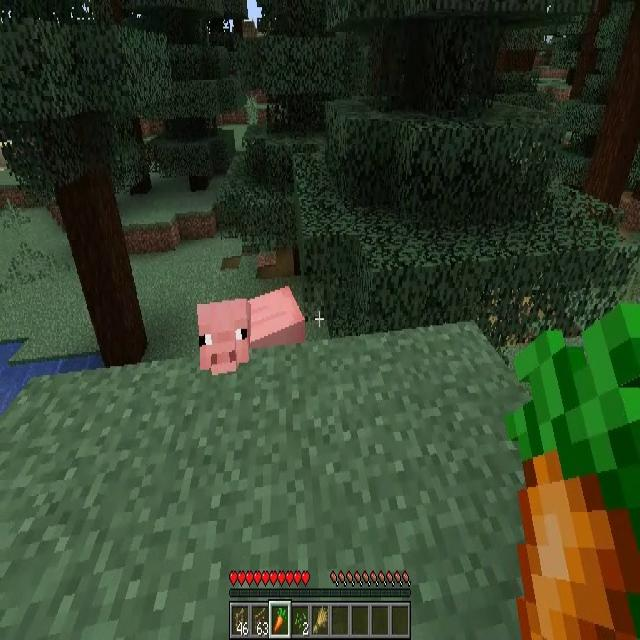pig: (197, 286, 305, 372)
